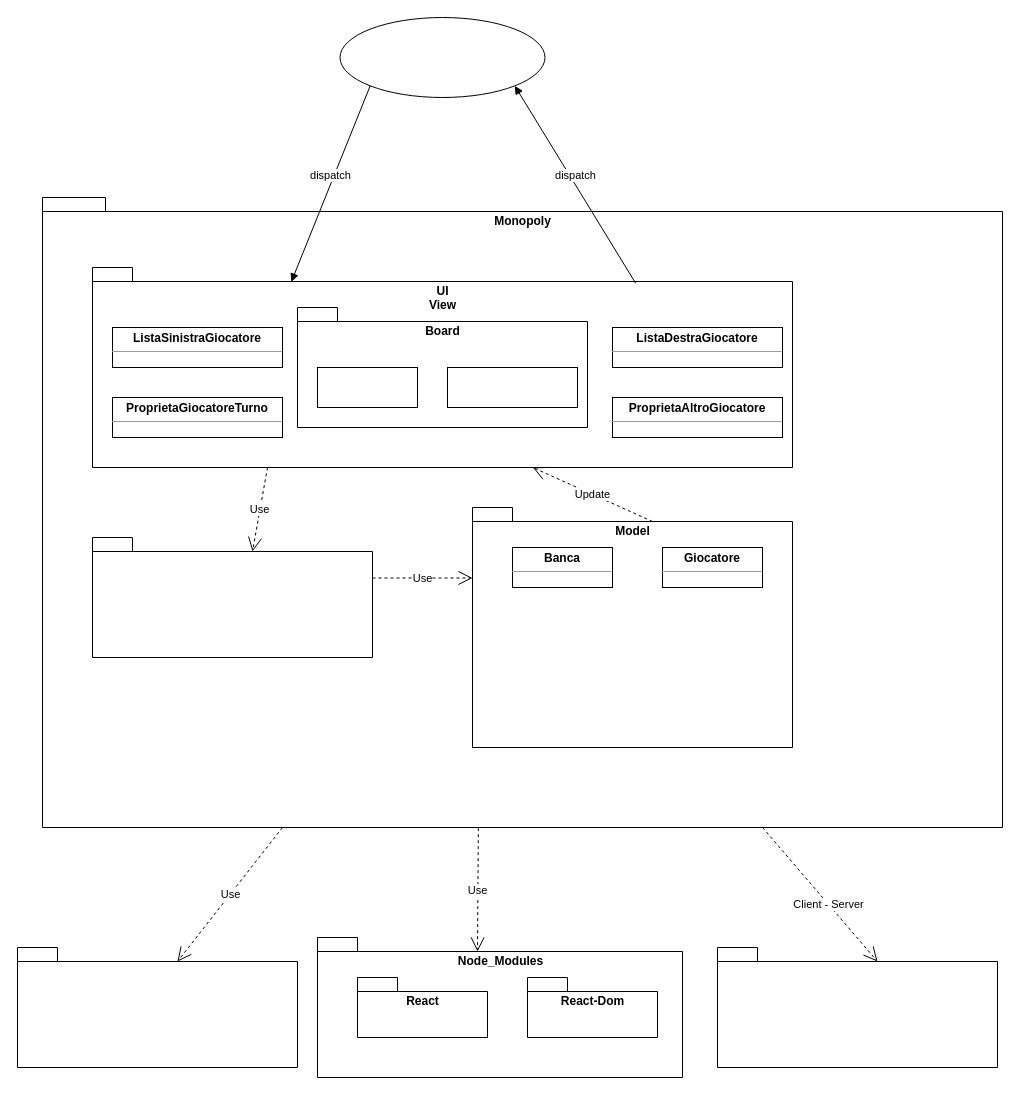
Some shapes in this 1020 by 1095 pixel diagram are drawn without their labels. Here are the shapes that lost their labels. From the top down, the centre of each, then its label:
the point at 442,57: Browser
the point at 367,387: Pedina
the point at 512,387: PannelloControllo
the point at 232,597: Controller
the point at 157,1007: Material-UI
the point at 857,1007: NodeJS
